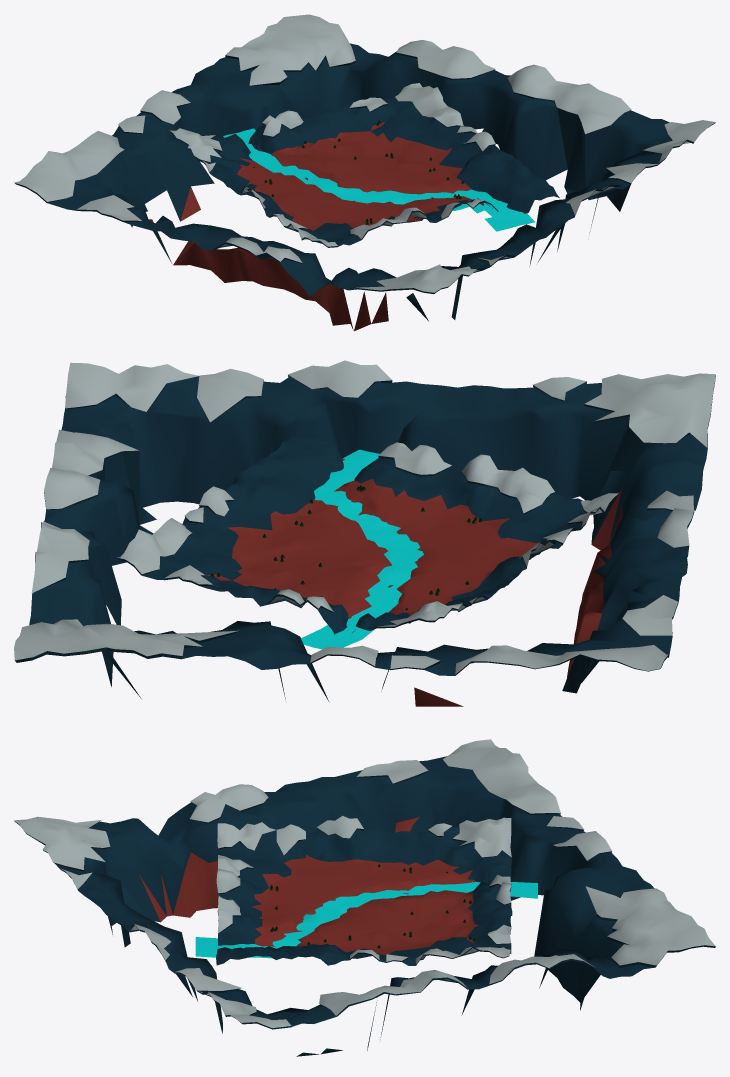
Rendered from enviroment_streamed_test.dae.
3 views of the same model, one above another, from view 1: azimuth 30°, elevation 25°; view 2: azimuth 150°, elevation 25°; view 3: azimuth 270°, elevation 25° (orthographic). The views are drawn at different scales.
Visible parts, largest first — view 1: pPlane4, pPlane1, pPlane3; view 2: pPlane4, pPlane1, pPlane3; view 3: pPlane4, pPlane1, pPlane3.
Boxes of the visible parts, bbox=[...] form: pPlane4: bbox=[14, 14, 715, 331]; pPlane1: bbox=[170, 83, 559, 247]; pPlane3: bbox=[223, 128, 535, 231]; pPlane4: bbox=[14, 360, 715, 706]; pPlane1: bbox=[116, 435, 618, 634]; pPlane3: bbox=[301, 449, 423, 649]; pPlane4: bbox=[14, 739, 715, 1056]; pPlane1: bbox=[216, 815, 512, 965]; pPlane3: bbox=[195, 881, 537, 958].
Bounding box in the file's own units: 941 × 153 × 958.
